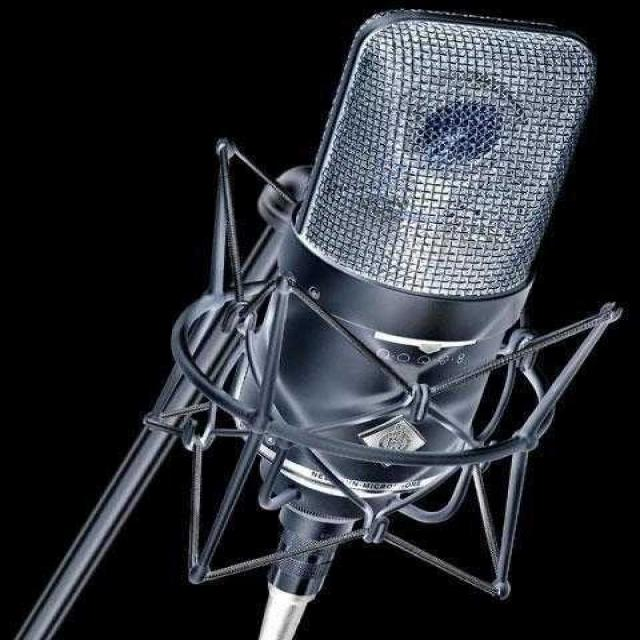microphone: (214, 18, 587, 542)
